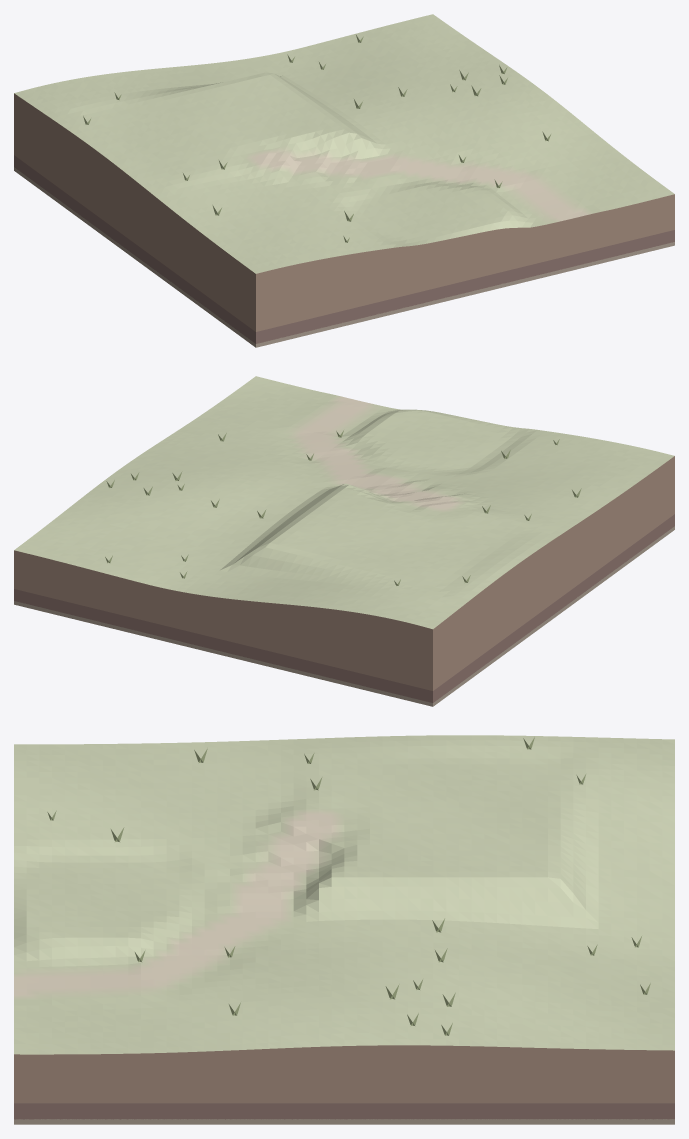
3 views of the same model, one above another, from view 1: azimuth 30°, elevation 25°; view 2: azimuth 150°, elevation 25°; view 3: azimuth 270°, elevation 25° (orthographic). The views are drawn at different scales.
Parts seen in each view (by area): view 1: proc_ground, proc_skirt, proc_grass; view 2: proc_ground, proc_skirt, proc_grass; view 3: proc_ground, proc_skirt, proc_grass.
Part boxes in pixels (x1,y1,x2,y2): proc_ground: [14, 14, 674, 273]; proc_skirt: [14, 93, 674, 347]; proc_grass: [83, 35, 550, 242]; proc_ground: [14, 376, 674, 629]; proc_skirt: [14, 456, 674, 706]; proc_grass: [105, 430, 581, 585]; proc_ground: [14, 735, 674, 1054]; proc_skirt: [14, 1045, 674, 1124]; proc_grass: [47, 737, 650, 1035].
Size of the model in its own units: 8 by 1.62 by 8.
